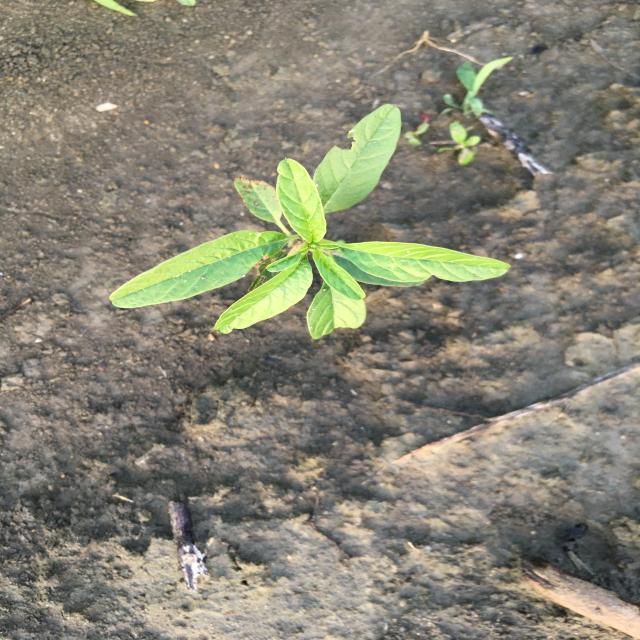Waterhemp: (108, 103, 515, 341)
